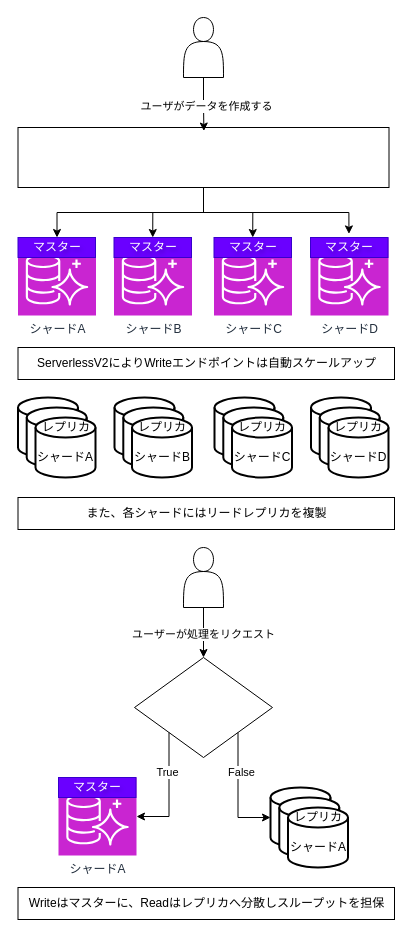
Image size: 415x937. Some labels were removed from this diagram. The shapes that lost their labels are listed below. From the top down, each one's centre as x and y in pixels, then its label:
At point 203,157: "データ作成時にサロゲートキーを除算した余りでグループ分け".
At point 203,707: "リクエストはWriteか？".
